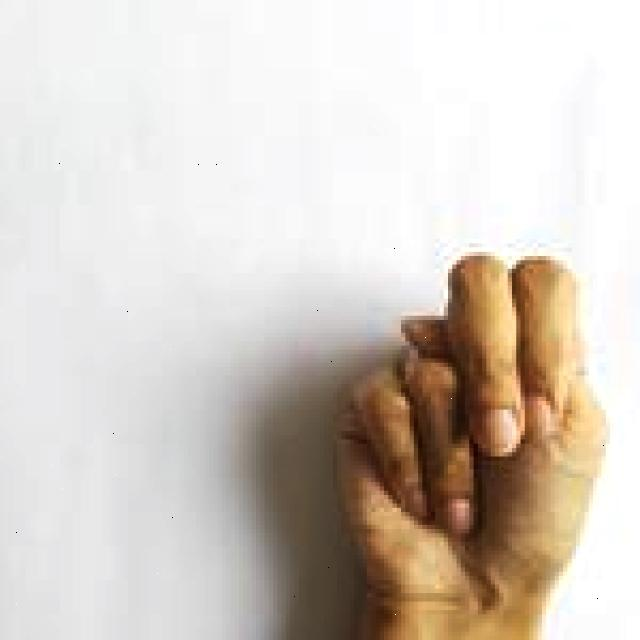N: (328, 242, 615, 640)
